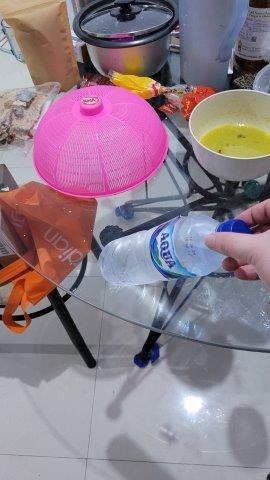botolplastik: (96, 210, 248, 288)
